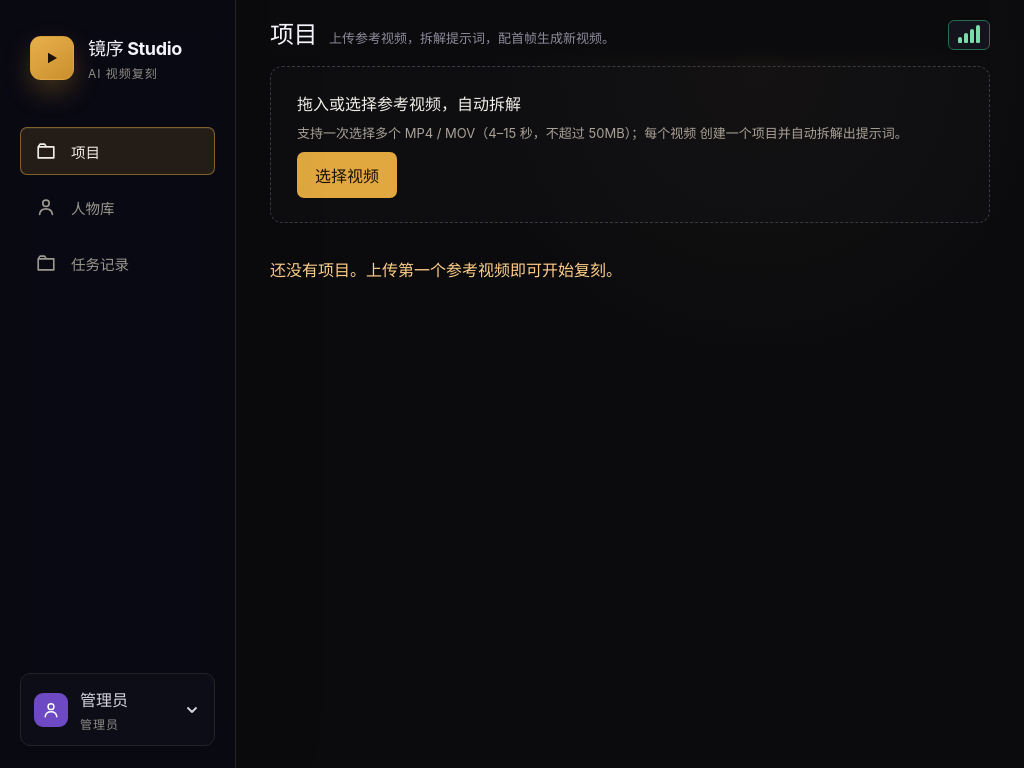
Test: App › tells an admin that saved settings remain when the local key is unavailable
Expected: the heading "项目" is shown, [270,20,317,50]
Click the button with aria-label "用户菜单" at (118, 710), box [20,673,215,746]
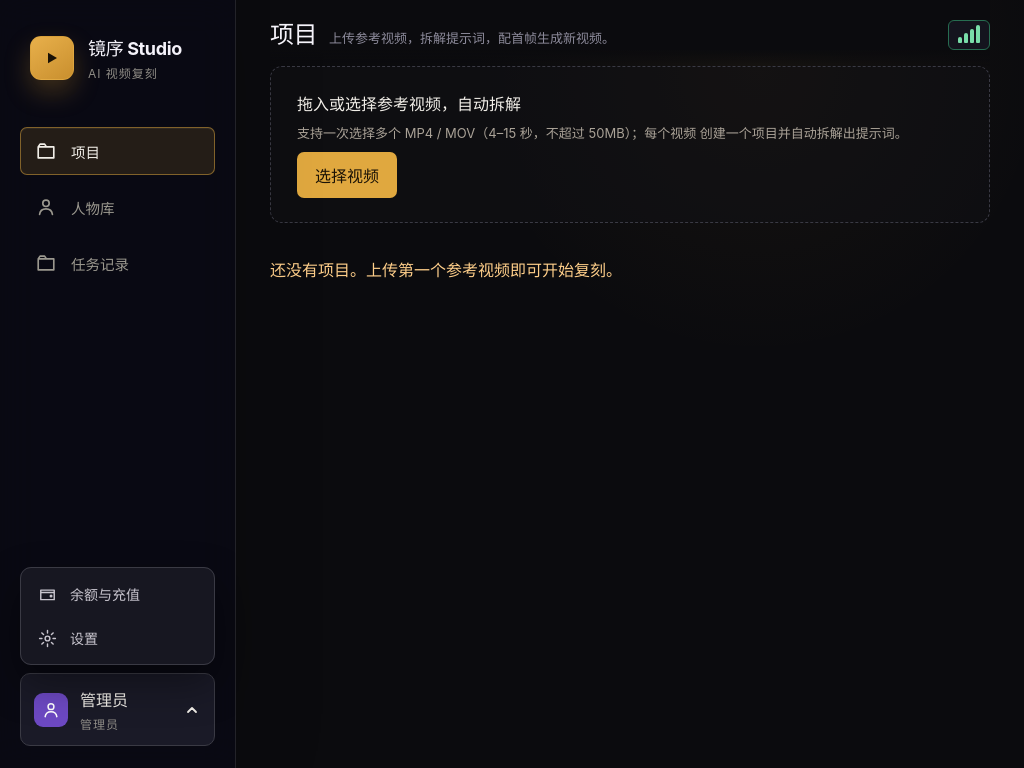
Click the button "设置" at (118, 638), box [27,618,208,658]
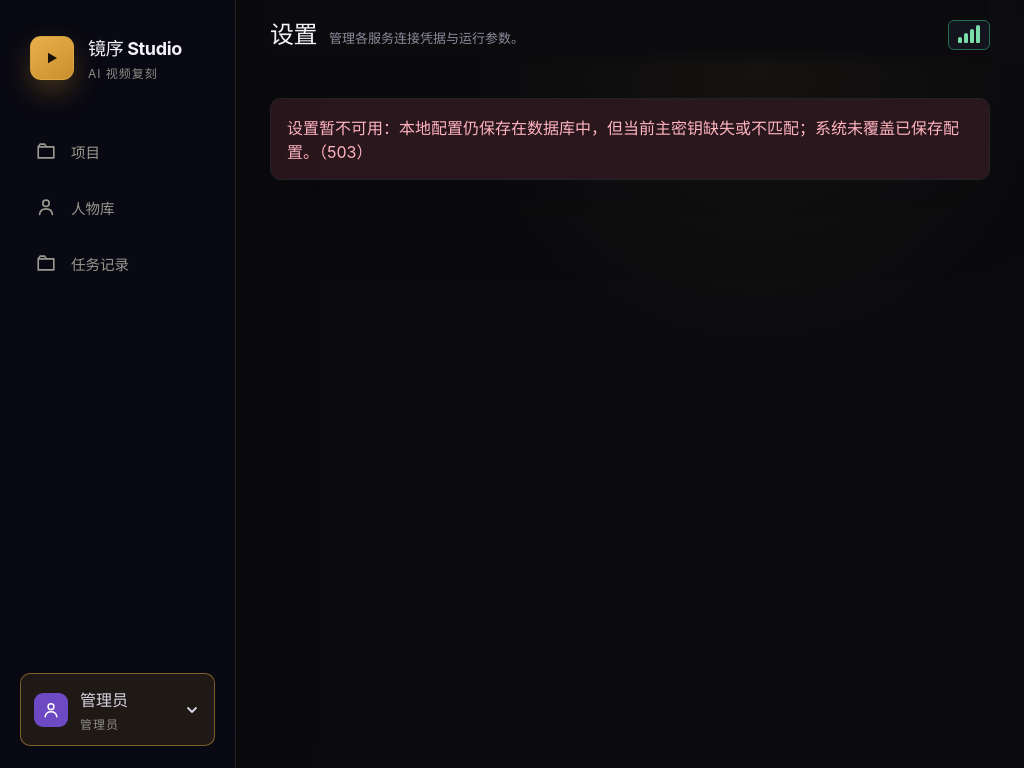
Expected: the message "设置暂不可用：本地配置仍保存在数据库中，但当前主密钥缺失或不匹配；系统未覆盖已保存配置。（503）" is shown, [270,98,990,180]
